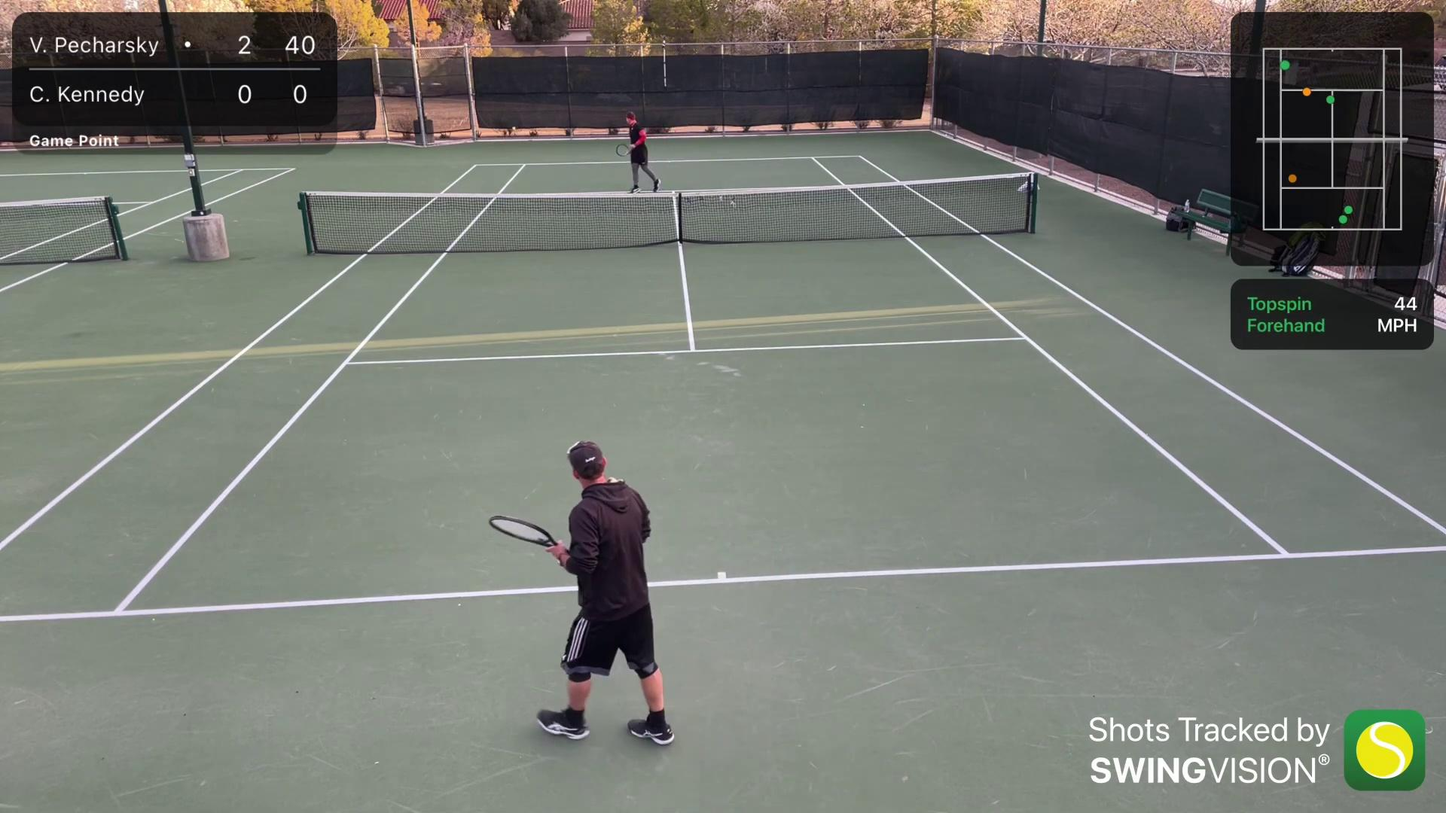ball: (510, 124, 517, 131)
